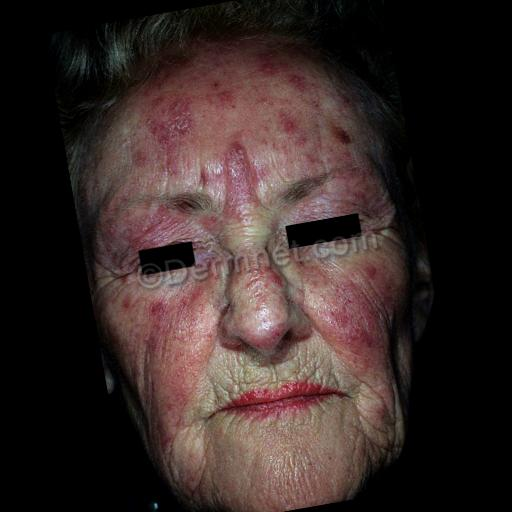Skin_Lesion: (139, 88, 198, 158), (332, 306, 379, 354), (404, 190, 430, 268), (277, 110, 313, 154), (208, 66, 238, 112), (356, 248, 386, 292), (145, 290, 175, 332), (226, 144, 254, 179), (334, 120, 356, 158), (198, 158, 220, 192), (286, 67, 309, 99), (120, 288, 140, 320), (258, 52, 280, 80), (266, 263, 286, 293), (158, 422, 175, 456), (374, 398, 392, 428), (263, 488, 283, 512), (143, 332, 159, 358)
